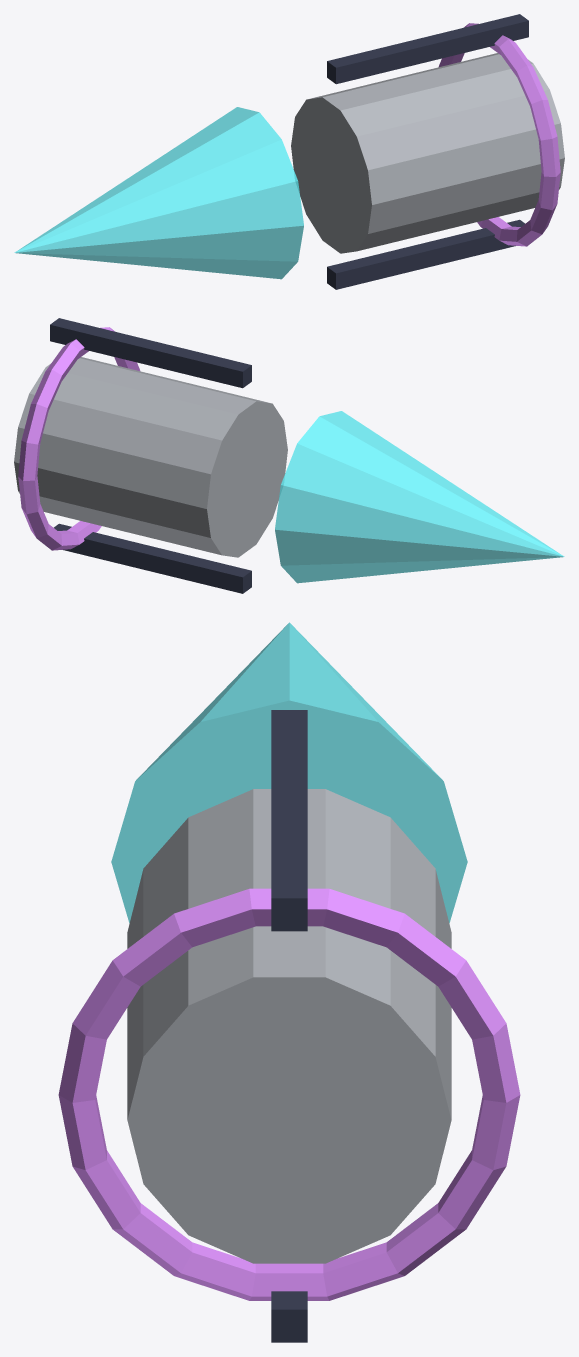
File: 06_skyship_engine.glb
3 views of the same model, one above another, from view 1: azimuth 30°, elevation 25°; view 2: azimuth 150°, elevation 25°; view 3: azimuth 270°, elevation 25° (orthographic). The views are drawn at different scales.
Parts seen in each view (by area): view 1: engine_core, thruster_plume, engine_ring, mount_strut_r, mount_strut_l; view 2: engine_core, thruster_plume, engine_ring, mount_strut_r, mount_strut_l; view 3: engine_core, engine_ring, thruster_plume, mount_strut_r, mount_strut_l.
Boxes of the visible parts, left/top/right/bottom form: engine_core: left=291, top=53, right=564, bottom=253; thruster_plume: left=14, top=107, right=303, bottom=279; engine_ring: left=438, top=23, right=560, bottom=246; mount_strut_r: left=327, top=14, right=528, bottom=84; mount_strut_l: left=327, top=219, right=524, bottom=289; engine_core: left=14, top=357, right=287, bottom=557; thruster_plume: left=275, top=411, right=564, bottom=583; engine_ring: left=18, top=327, right=140, bottom=550; mount_strut_r: left=50, top=318, right=251, bottom=388; mount_strut_l: left=54, top=523, right=251, bottom=593; engine_core: left=127, top=789, right=451, bottom=1263; engine_ring: left=58, top=888, right=520, bottom=1300; thruster_plume: left=111, top=622, right=467, bottom=923; mount_strut_r: left=271, top=710, right=307, bottom=931; mount_strut_l: left=271, top=1291, right=307, bottom=1342.
Bounding box in the file's own units: 1.45 × 0.605 × 0.57.
